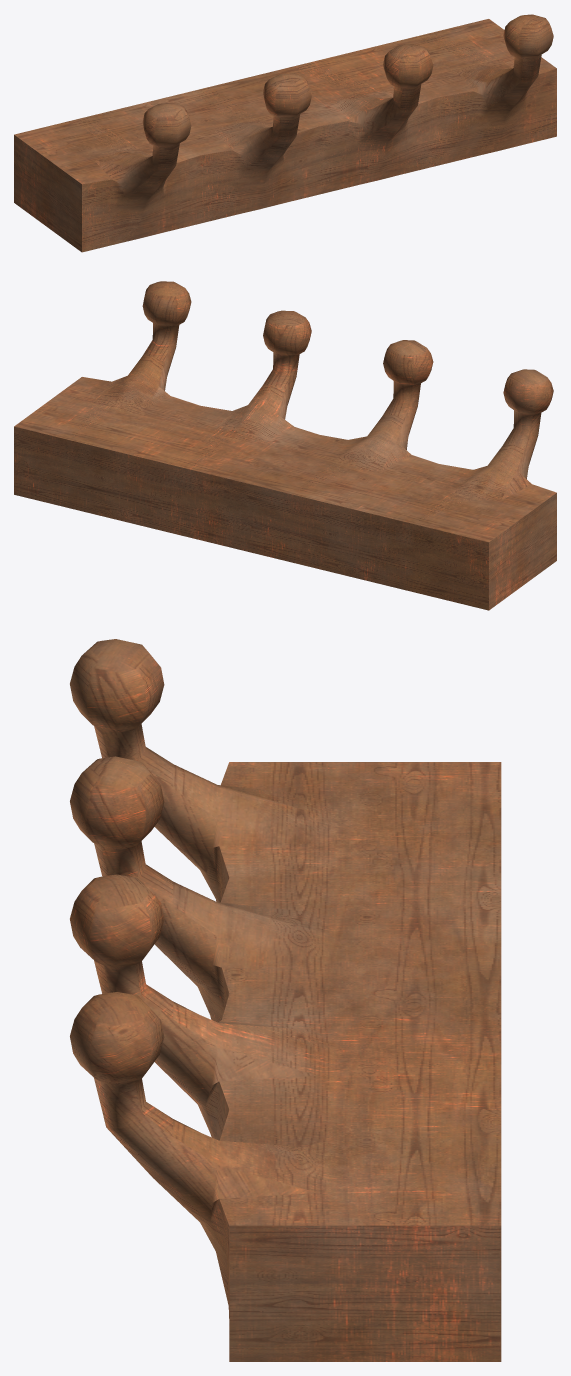
File: Cleat.fbx
The picture shows the model from 3 angles, top to bottom: view 1: azimuth 30°, elevation 25°; view 2: azimuth 150°, elevation 25°; view 3: azimuth 270°, elevation 25°; orthographic projection. The views are drawn at different scales.
Visible parts, largest first — view 1: Cleats; view 2: Cleats; view 3: Cleats.
Part boxes in pixels (<box>): Cleats: <box>14,14,556,252</box>; Cleats: <box>14,281,556,610</box>; Cleats: <box>70,639,501,1361</box>.
Bounding box in the file's own units: 643 × 200 × 253.
Materials: 1 (1 with a texture image).
